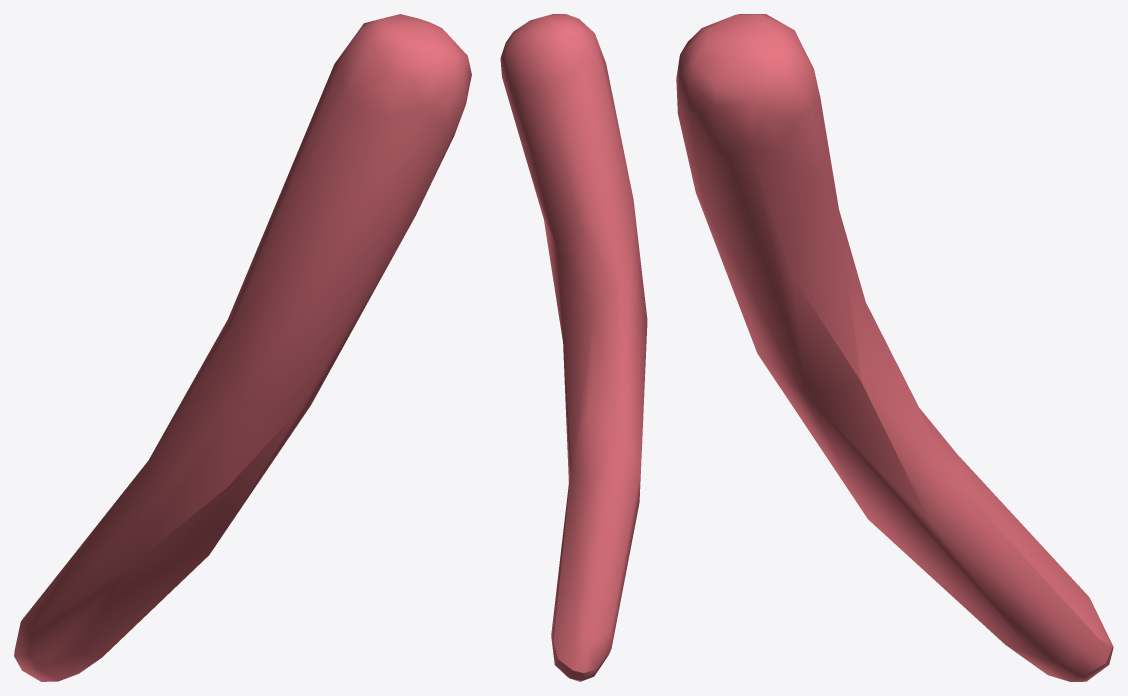
The model's file is fma8631_fj6074.glb.
3 views of the same model, side by side, from view 1: azimuth 30°, elevation 25°; view 2: azimuth 150°, elevation 25°; view 3: azimuth 270°, elevation 25° (orthographic). The views are drawn at different scales.
Visible parts, largest first — view 1: FMA8631_FJ6074; view 2: FMA8631_FJ6074; view 3: FMA8631_FJ6074.
Part boxes in pixels (x1,y1,x2,y2): FMA8631_FJ6074: (14, 14, 471, 681); FMA8631_FJ6074: (500, 14, 647, 681); FMA8631_FJ6074: (676, 14, 1113, 681).
Bounding box in the file's own units: 0.00598 × 0.0145 × 0.00763.
